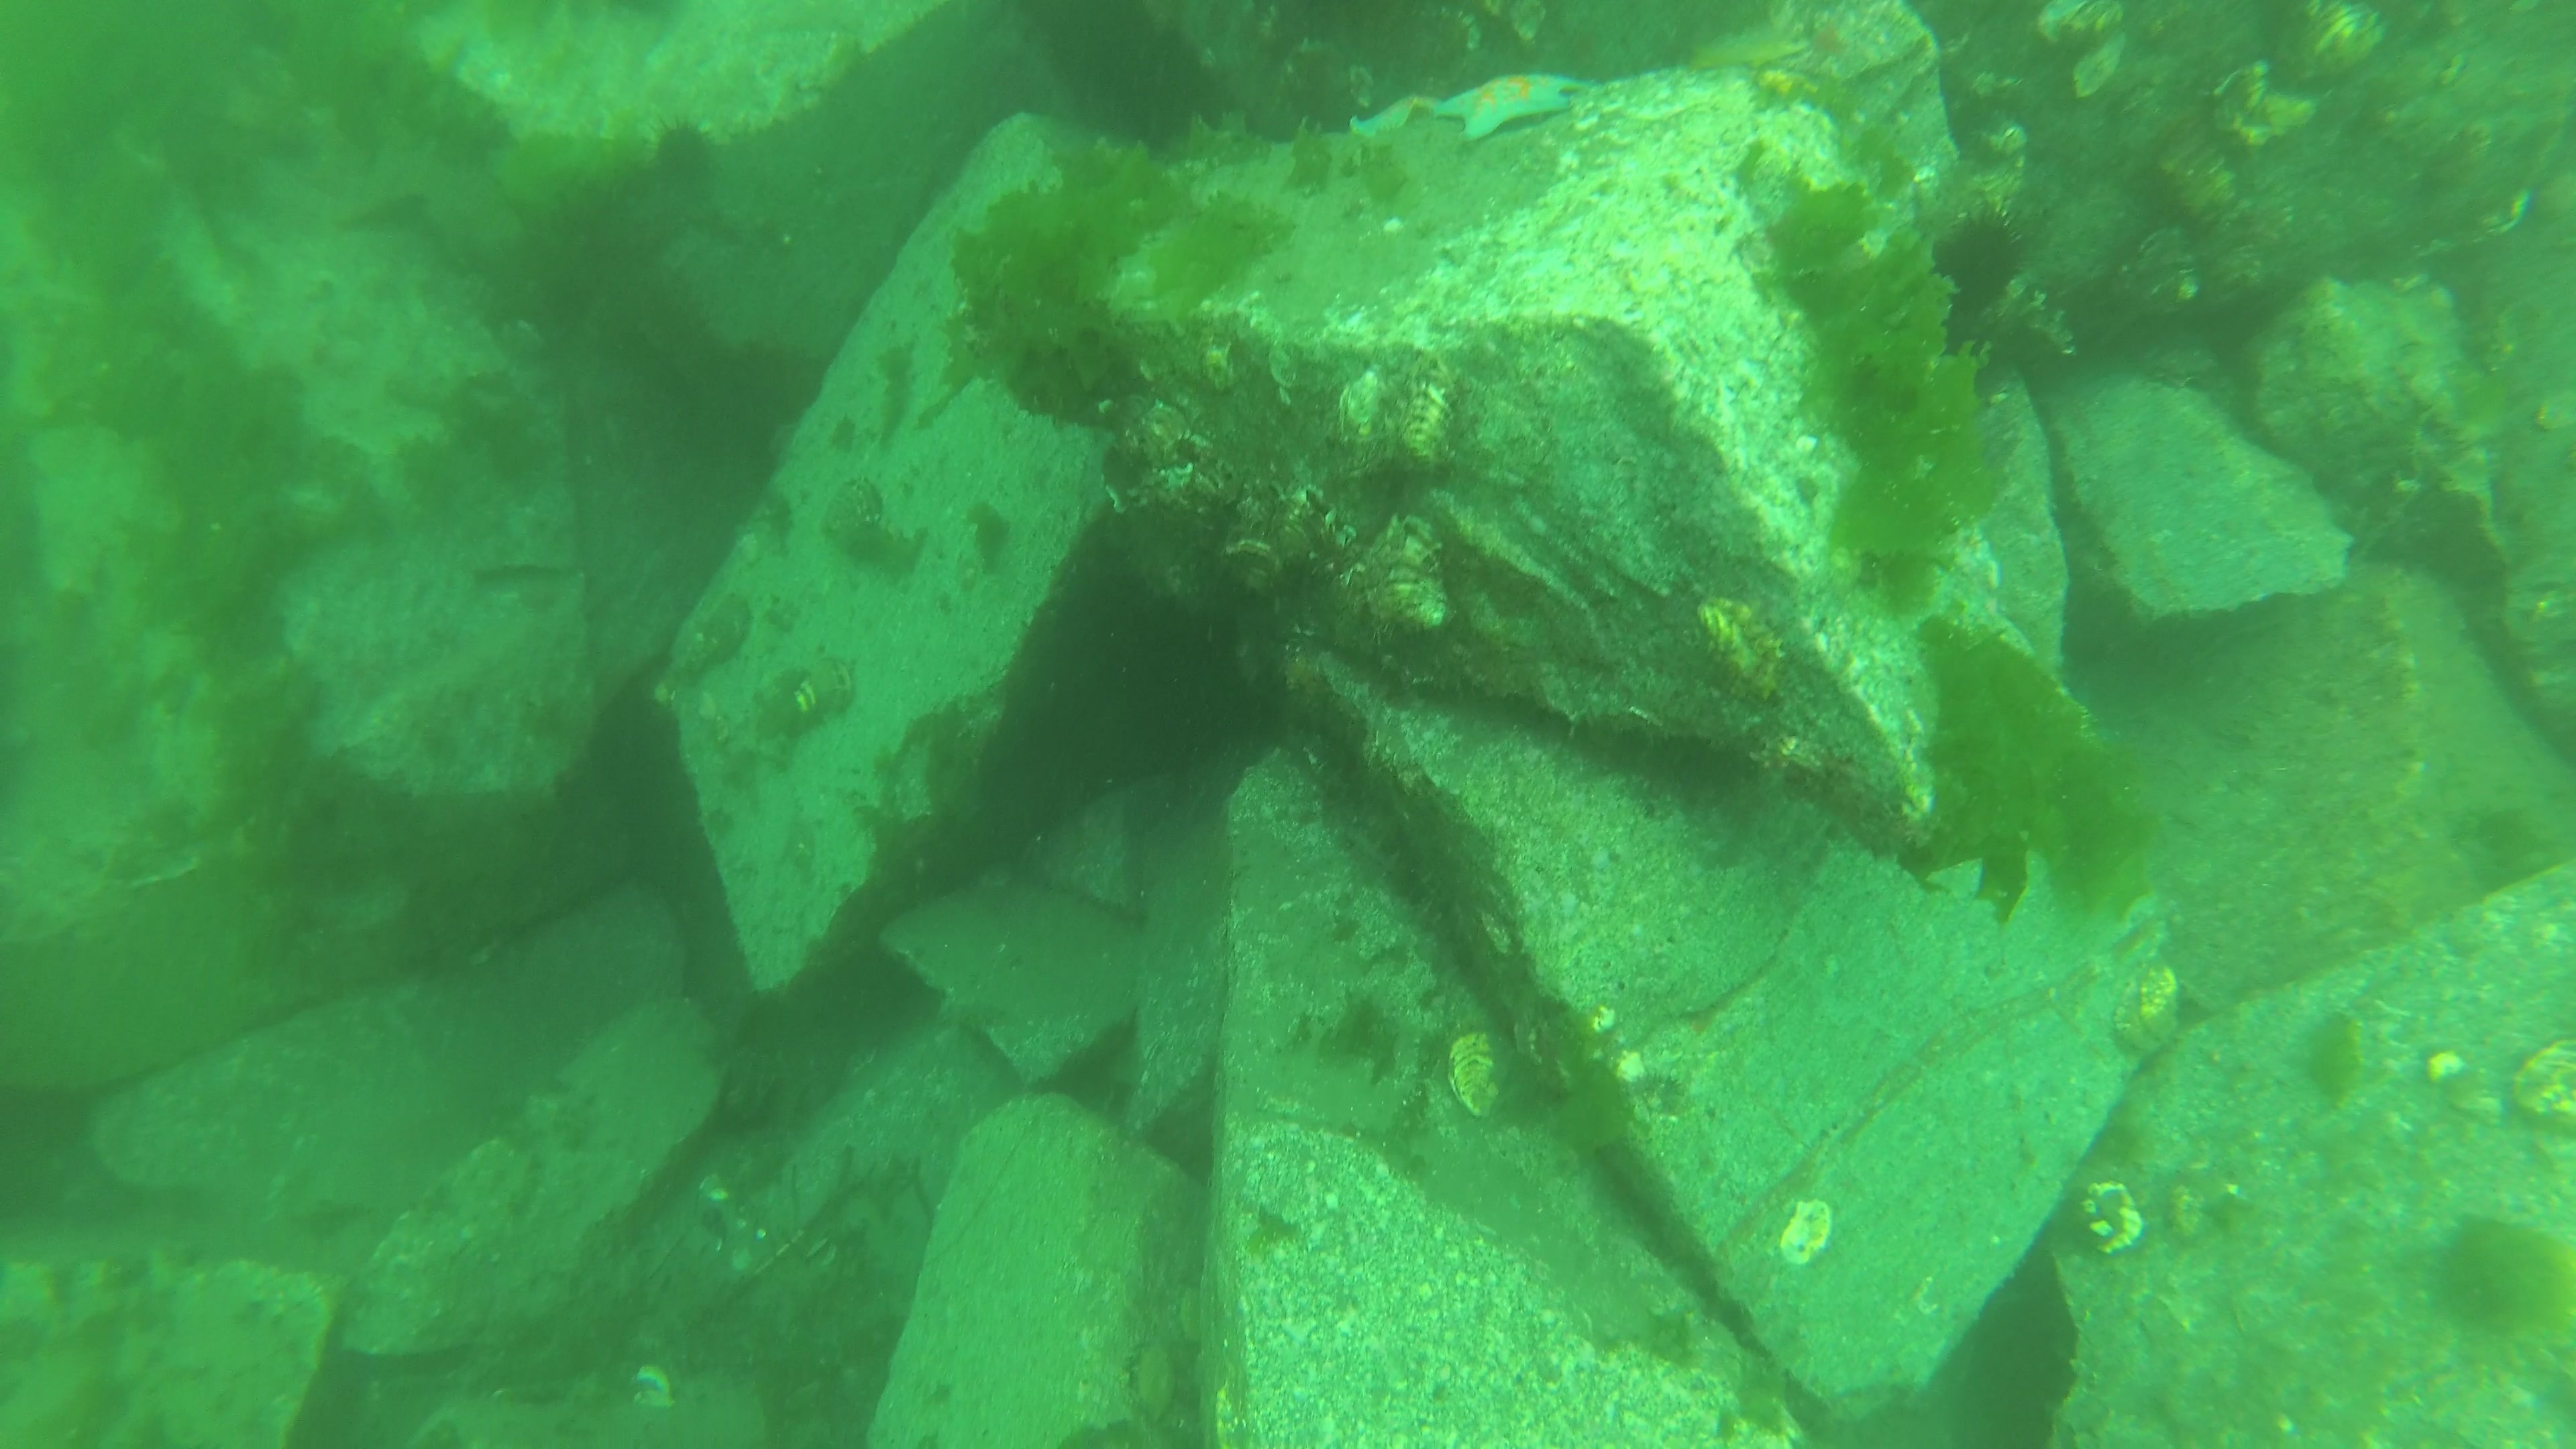echinus: (1920, 205, 2042, 318), (640, 120, 732, 196)
starfish: (1421, 71, 1596, 145), (1332, 90, 1468, 145)
